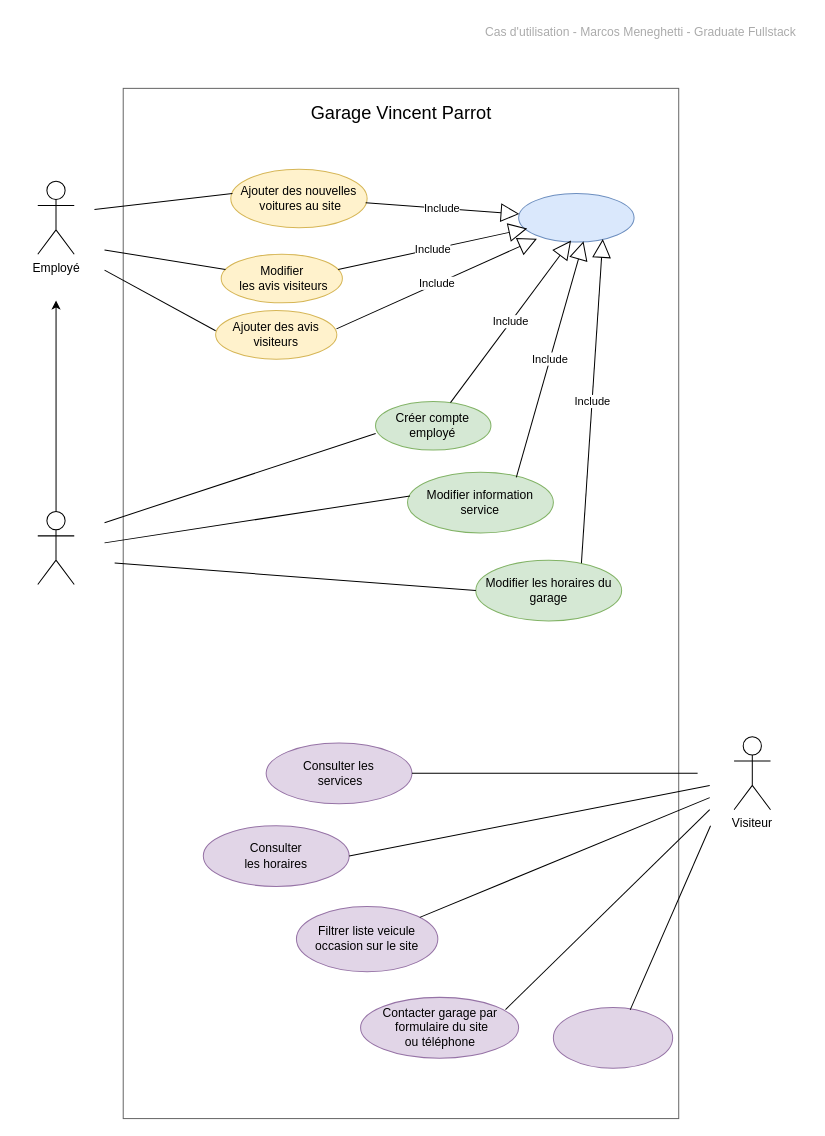
This 825x1136 diagram has some shape labels left out. The shapes that lost their labels are listed below. From the top down, each one's box as (x1, y1, x2, y2) in pixels, then its label:
(518, 193, 634, 242): Se connecter
(37, 511, 74, 584): Administrateur
(552, 1006, 673, 1068): Laisser temoignage
